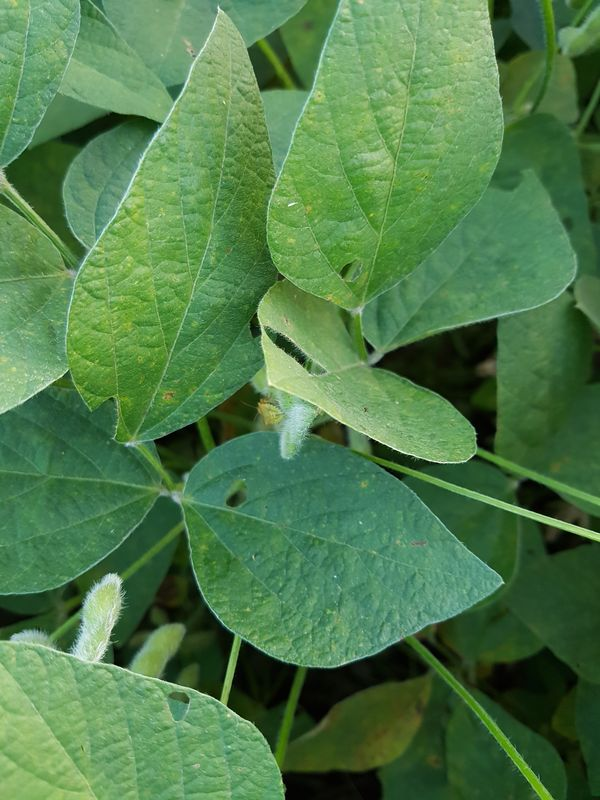Euschistus_heros_ninfa: (248, 392, 293, 433)
